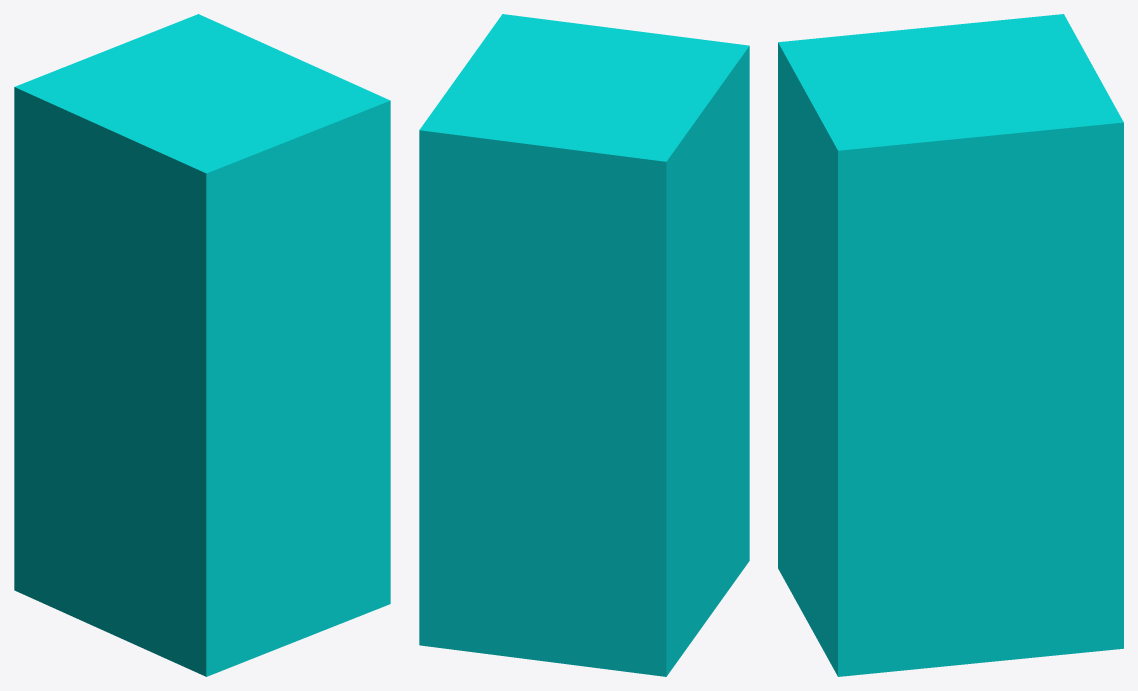
The model's file is Break Wall LG.fbx.
3 views of the same model, side by side, from view 1: azimuth 30°, elevation 25°; view 2: azimuth 150°, elevation 25°; view 3: azimuth 270°, elevation 25° (orthographic). The views are drawn at different scales.
Parts seen in each view (by area): view 1: pasted__pCube47; view 2: pasted__pCube47; view 3: pasted__pCube47.
Boxes of the visible parts, <box> form: pasted__pCube47: <box>14,14,390,676</box>; pasted__pCube47: <box>419,14,749,676</box>; pasted__pCube47: <box>778,14,1123,676</box>.
Size of the model in its own units: 1.1 by 1.98 by 1.18.
